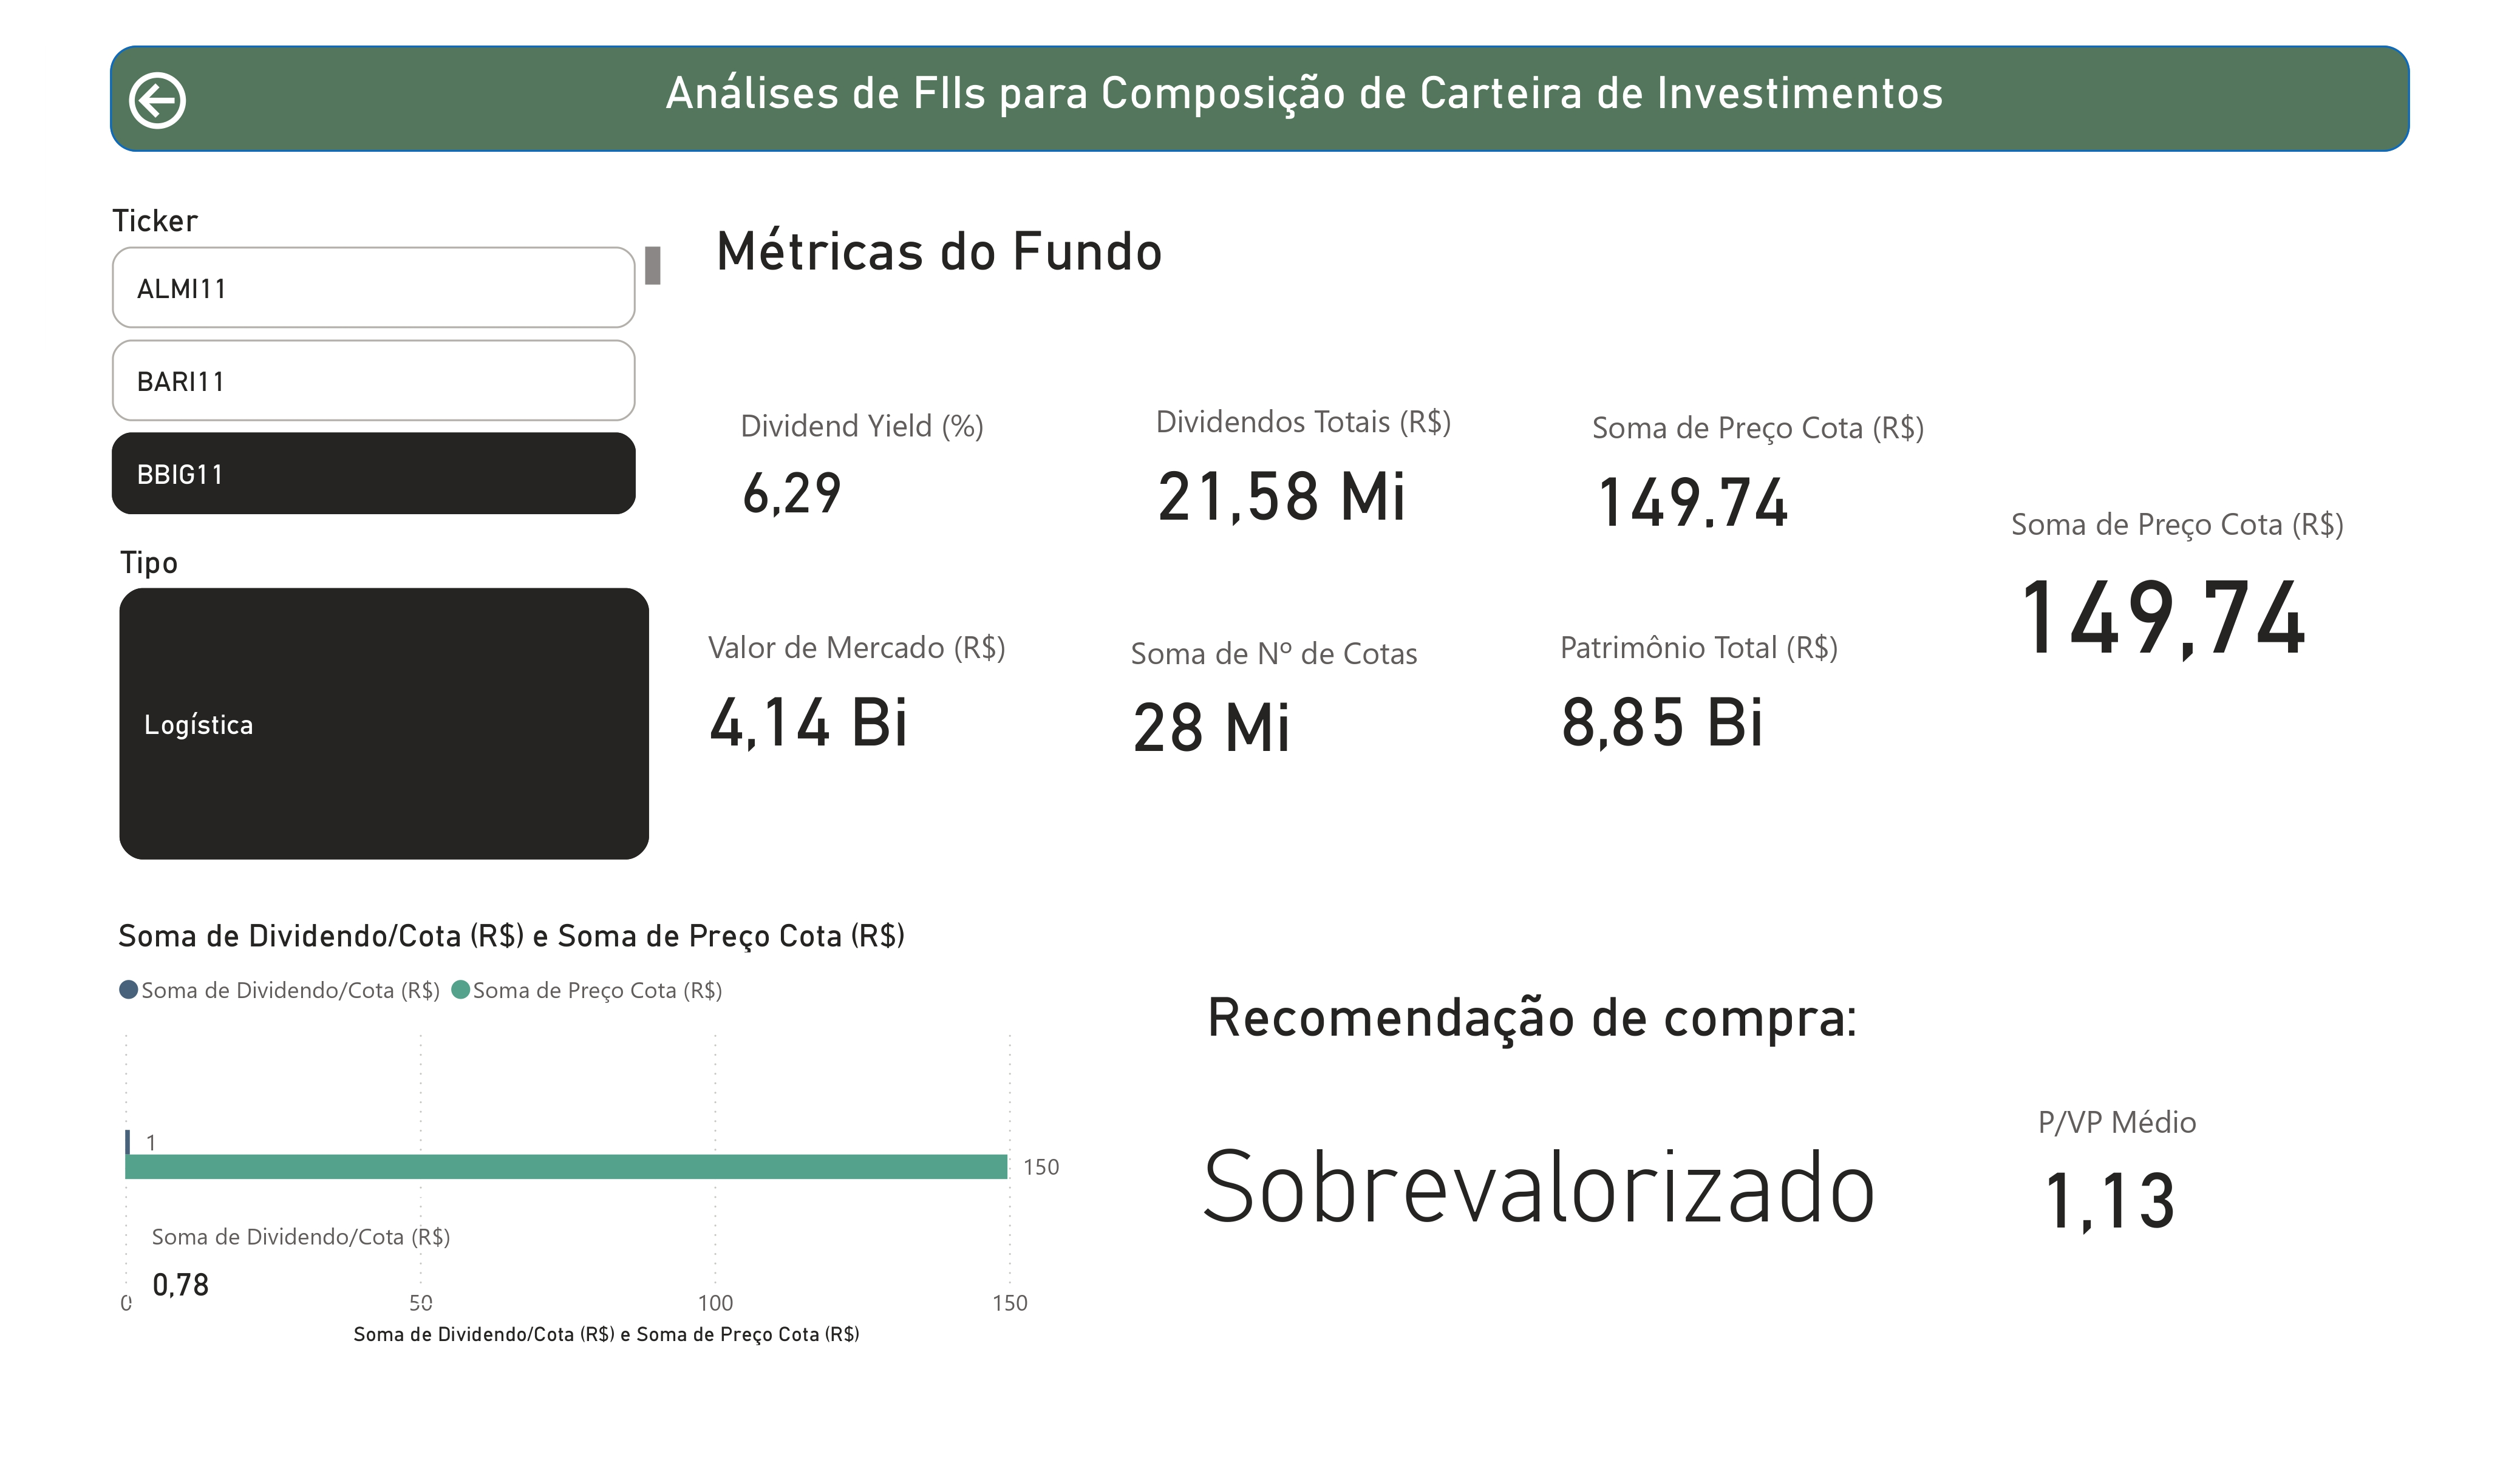

The dashboard page shown, as its layout file describes it:
{"tool":"powerbi","page":{"name":"Página 1","canvas":[1280,720],"ordinal":0},"visuals":[{"type":"shape","box":[34,0,1211.6,56.4],"z":0},{"type":"clusteredBarChart","fields":{"Y":["Sum(Sheet1.Dividendo/Cota (R$))","Sum(Sheet1.Preço Cota (R$))"]},"box":[33.1,459.4,531,230.1],"z":1000},{"type":"cardVisual","fields":{"Data":["Sheet1.Dividend Yield (%)"]},"box":[348.3,171,165.1,90.5],"z":2000},{"type":"cardVisual","fields":{"Data":["Sheet1.Dividendos Totais (R$)"]},"box":[567.5,168.7,192.2,95.2],"z":3000},{"type":"advancedSlicerVisual","fields":{"Values":["Sheet1.Ticker"]},"box":[29.6,82.4,299.1,171.9],"z":4000},{"type":"advancedSlicerVisual","fields":{"Values":["Sheet1.Tipo"]},"box":[34,262.4,289.3,172.8],"z":5000},{"type":"textbox","box":[607.2,489.9,364.5,54.6],"z":6000},{"type":"cardVisual","fields":{"Data":["Sheet1.Status Investimento"]},"box":[591.3,544.1,397.4,91.4],"z":7000},{"type":"textbox","box":[348.3,85.8,260.3,60.6],"z":8000},{"type":"cardVisual","fields":{"Data":["Sheet1.P/VP Médio"]},"box":[1031.6,538.2,139.7,97.6],"z":9000},{"type":"textbox","box":[312,6,703,50],"z":10000},{"type":"cardVisual","fields":{"Data":["Sum(Sheet1.Preço Cota (R$))"]},"box":[797,172,214.6,88.6],"z":11000},{"type":"cardVisual","fields":{"Data":["Sheet1.Valor de Mercado (R$)"]},"box":[331.2,287.8,195.9,95.2],"z":12000},{"type":"cardVisual","fields":{"Data":["Sum(Sheet1.Nº de Cotas)"]},"box":[554.2,291.1,188.5,88.6],"z":13000},{"type":"cardVisual","fields":{"Data":["Sheet1.Patrimônio Total (R$)"]},"box":[780,287.5,191.3,98],"z":14000},{"type":"cardVisual","fields":{"Data":["Sum(Sheet1.Dividendo/Cota (R$))"]},"box":[38.2,600.9,204.5,68.2],"z":15000},{"type":"cardVisual","fields":{"Data":["Sum(Sheet1.Preço Cota (R$))"]},"box":[1018.2,209.6,227.5,150.4],"z":16000},{"type":"actionButton","box":[38.5,9,41.2,40.3],"z":17000}]}

Visuals, with their boxes on the page's 1280x720 design canvas (x1, y1, x2, y2). These are canvas units, not pixel positions in the 2520x1457 screenshot, which may show the page scaled, cropped or inside an application window:
shape: x1=34 y1=0 x2=1246 y2=56
clusteredBarChart - Sum(Sheet1.Dividendo/Cota (R$)) x Sum(Sheet1.Preço Cota (R$)): x1=33 y1=459 x2=564 y2=690
cardVisual - Sheet1.Dividend Yield (%): x1=348 y1=171 x2=513 y2=262
cardVisual - Sheet1.Dividendos Totais (R$): x1=568 y1=169 x2=760 y2=264
advancedSlicerVisual - Sheet1.Ticker: x1=30 y1=82 x2=329 y2=254
advancedSlicerVisual - Sheet1.Tipo: x1=34 y1=262 x2=323 y2=435
textbox: x1=607 y1=490 x2=972 y2=544
cardVisual - Sheet1.Status Investimento: x1=591 y1=544 x2=989 y2=636
textbox: x1=348 y1=86 x2=609 y2=146
cardVisual - Sheet1.P/VP Médio: x1=1032 y1=538 x2=1171 y2=636
textbox: x1=312 y1=6 x2=1015 y2=56
cardVisual - Sum(Sheet1.Preço Cota (R$)): x1=797 y1=172 x2=1012 y2=261
cardVisual - Sheet1.Valor de Mercado (R$): x1=331 y1=288 x2=527 y2=383
cardVisual - Sum(Sheet1.Nº de Cotas): x1=554 y1=291 x2=743 y2=380
cardVisual - Sheet1.Patrimônio Total (R$): x1=780 y1=288 x2=971 y2=386
cardVisual - Sum(Sheet1.Dividendo/Cota (R$)): x1=38 y1=601 x2=243 y2=669
cardVisual - Sum(Sheet1.Preço Cota (R$)): x1=1018 y1=210 x2=1246 y2=360
actionButton: x1=38 y1=9 x2=80 y2=49
